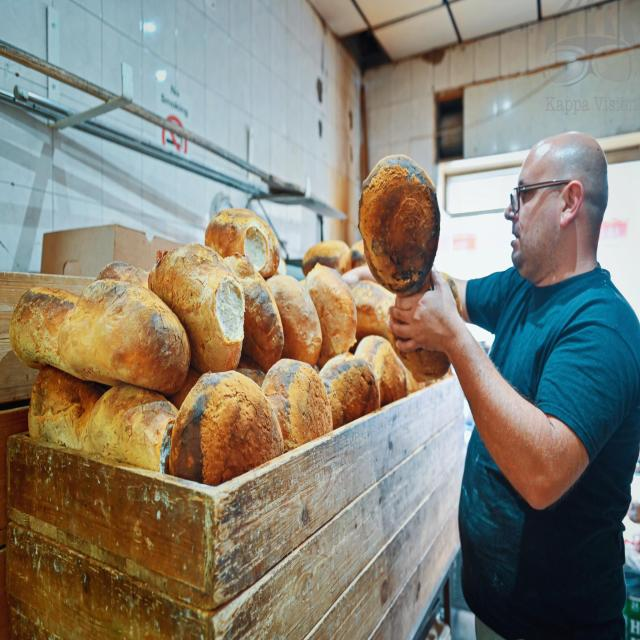Maltese-Bread: (58, 279, 190, 394), (170, 371, 284, 485), (149, 244, 244, 373), (359, 155, 440, 296), (83, 384, 178, 472), (224, 255, 284, 371), (261, 359, 332, 452), (304, 263, 357, 367), (205, 208, 281, 277), (266, 275, 322, 367), (319, 353, 380, 429)
